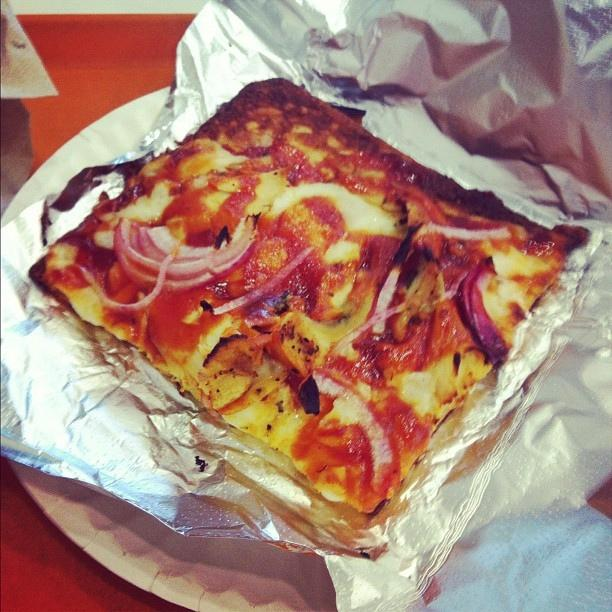onion: (373, 222, 511, 315), (310, 369, 393, 494), (117, 212, 262, 276), (114, 226, 256, 291), (212, 245, 317, 315), (456, 255, 507, 366), (79, 254, 176, 312), (331, 303, 407, 357), (146, 225, 215, 259), (136, 227, 199, 264)
